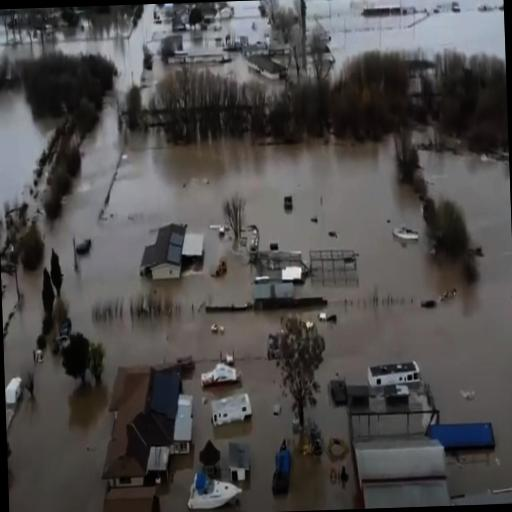flood: (3, 141, 512, 512), (44, 100, 512, 491), (306, 0, 505, 74), (54, 3, 171, 84), (0, 87, 49, 212), (182, 0, 270, 51), (0, 17, 40, 58), (218, 51, 251, 78)
house: (101, 356, 198, 512), (349, 427, 455, 509), (337, 364, 436, 418), (428, 416, 498, 459), (142, 220, 184, 280), (226, 436, 252, 482)
